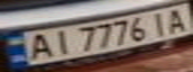6: (127, 13, 151, 42)
7: (72, 24, 100, 52), (93, 20, 115, 50), (112, 17, 133, 46)
A: (21, 32, 57, 61), (160, 6, 193, 34)
I: (45, 27, 75, 56), (145, 10, 175, 37)
